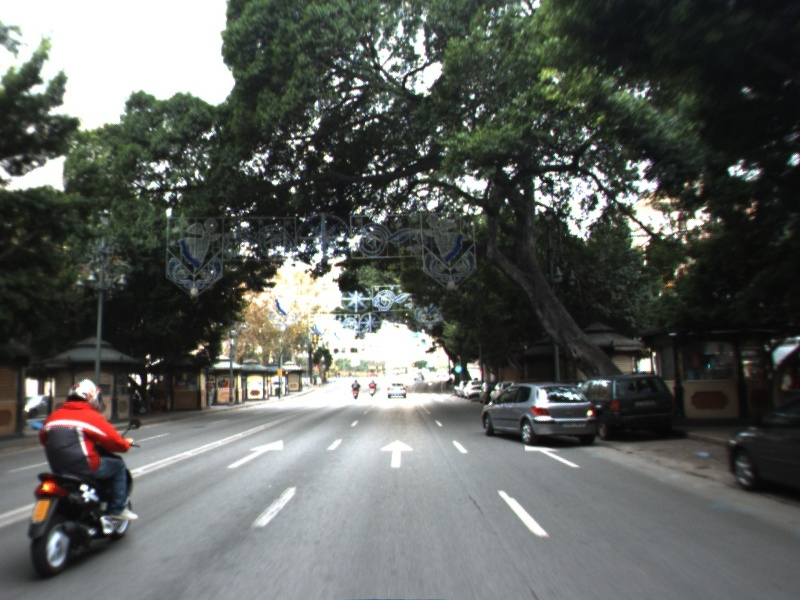STRAIGHT: (225, 438, 285, 470), (523, 442, 582, 469), (377, 438, 415, 469)
